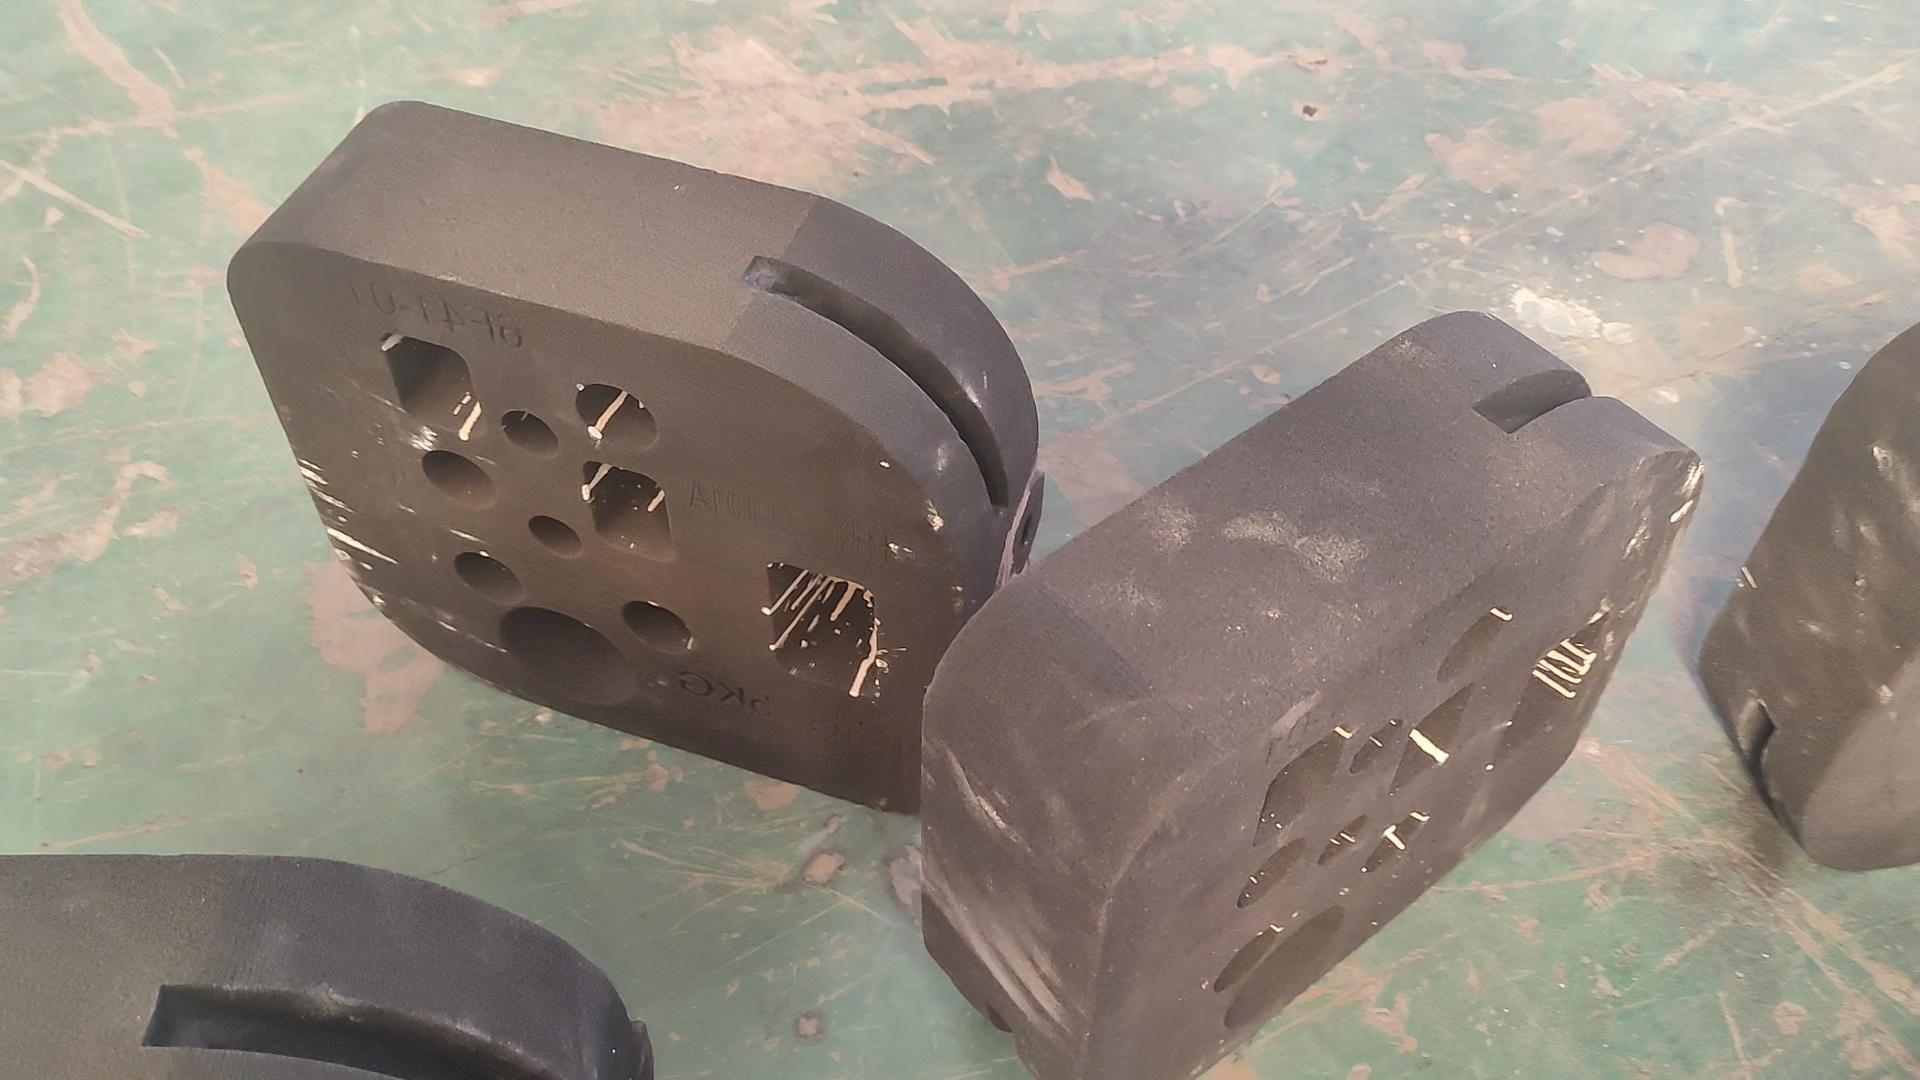pouring hole: (1222, 905, 1345, 1031), (496, 607, 636, 709)
